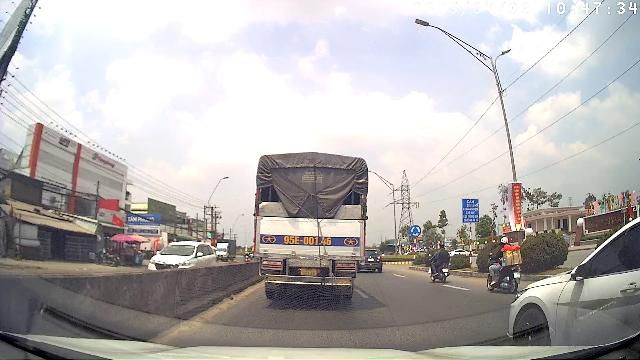303-noi-giao-nhau-chay-theo-vong-xuyen: (409, 225, 422, 237)
